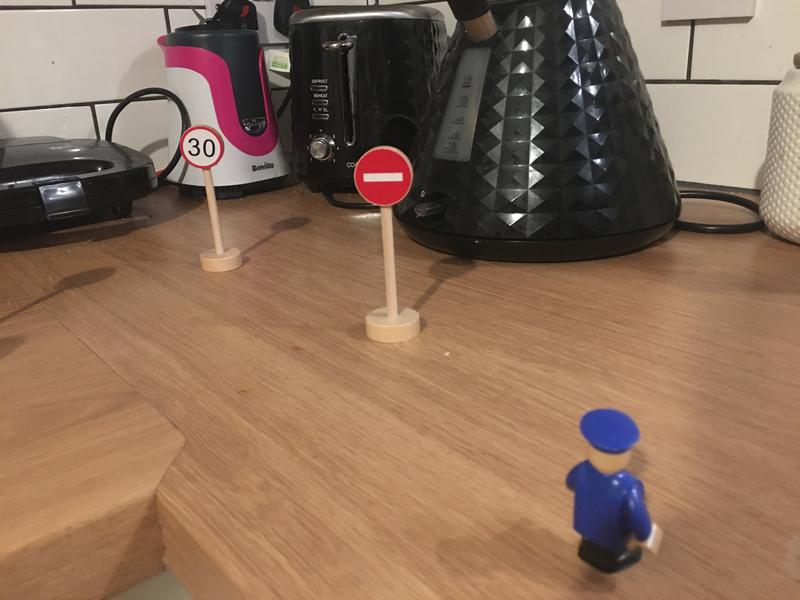Traffic_Sign_30: (180, 126, 224, 168)
Traffic_Sign_No_Entry: (354, 150, 412, 206)
person: (565, 409, 668, 577)
